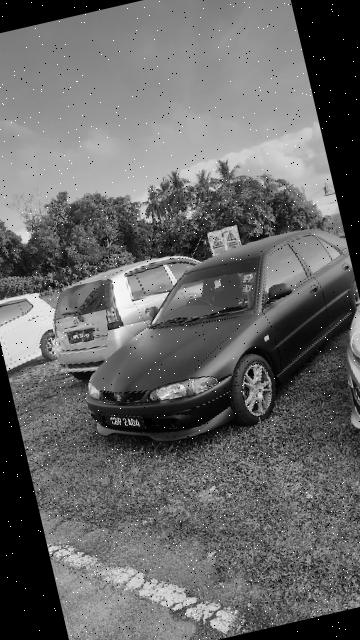License_Plate: (105, 406, 149, 441), (67, 326, 98, 347)
car: (61, 224, 360, 461), (36, 244, 223, 376)
